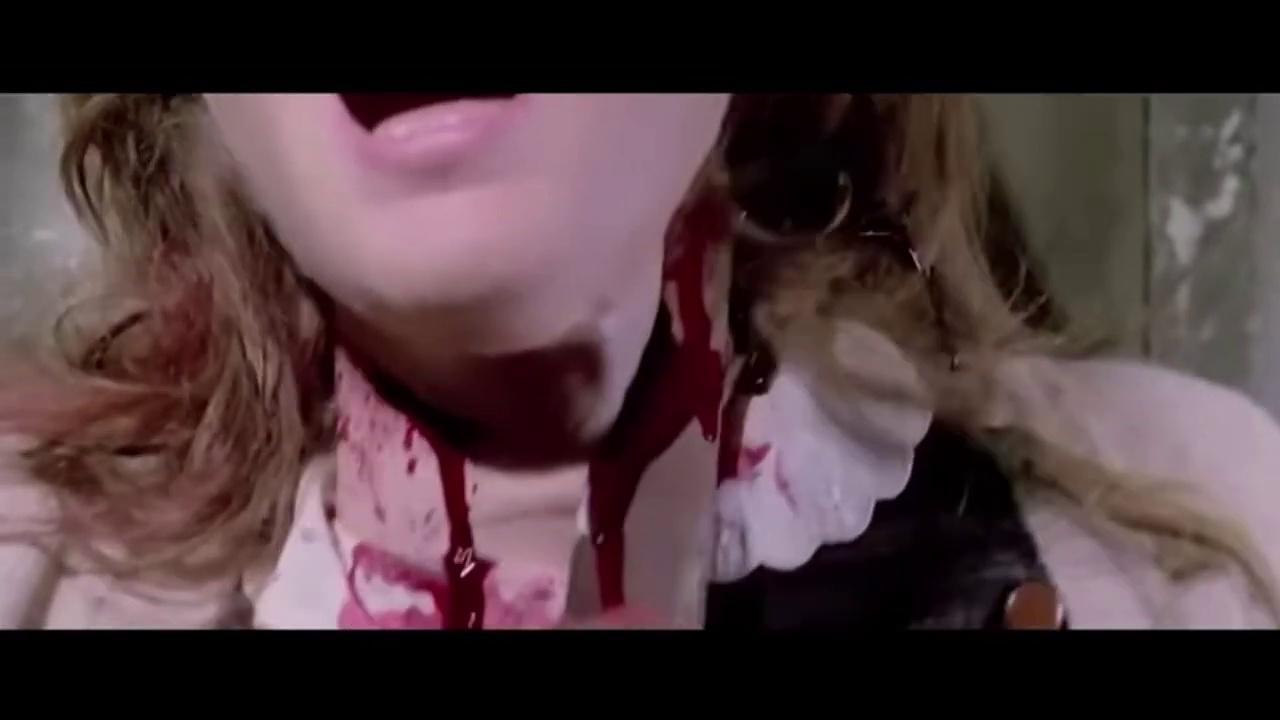Fire: (317, 100, 837, 630)
